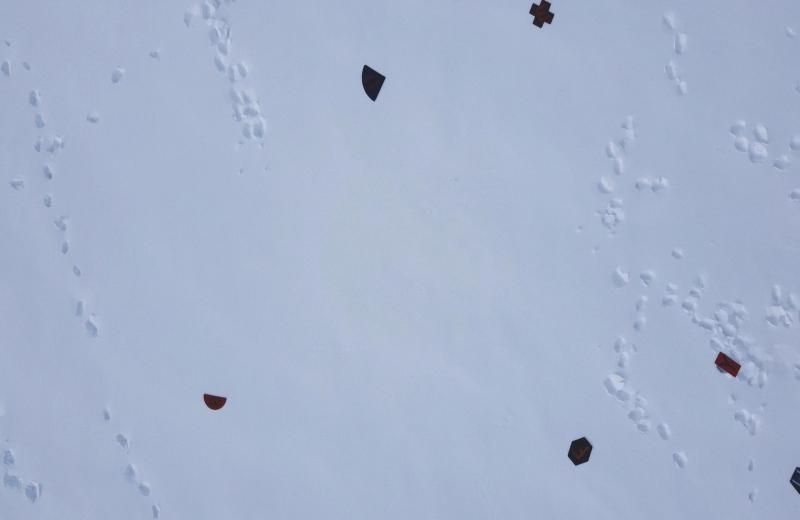Cross: (526, 0, 556, 31)
Hexagon: (565, 432, 596, 468)
Quarter Circle: (358, 59, 390, 107)
Rectangle: (0, 0, 800, 520), (713, 350, 742, 390)
Semi Circle: (202, 386, 229, 416)
